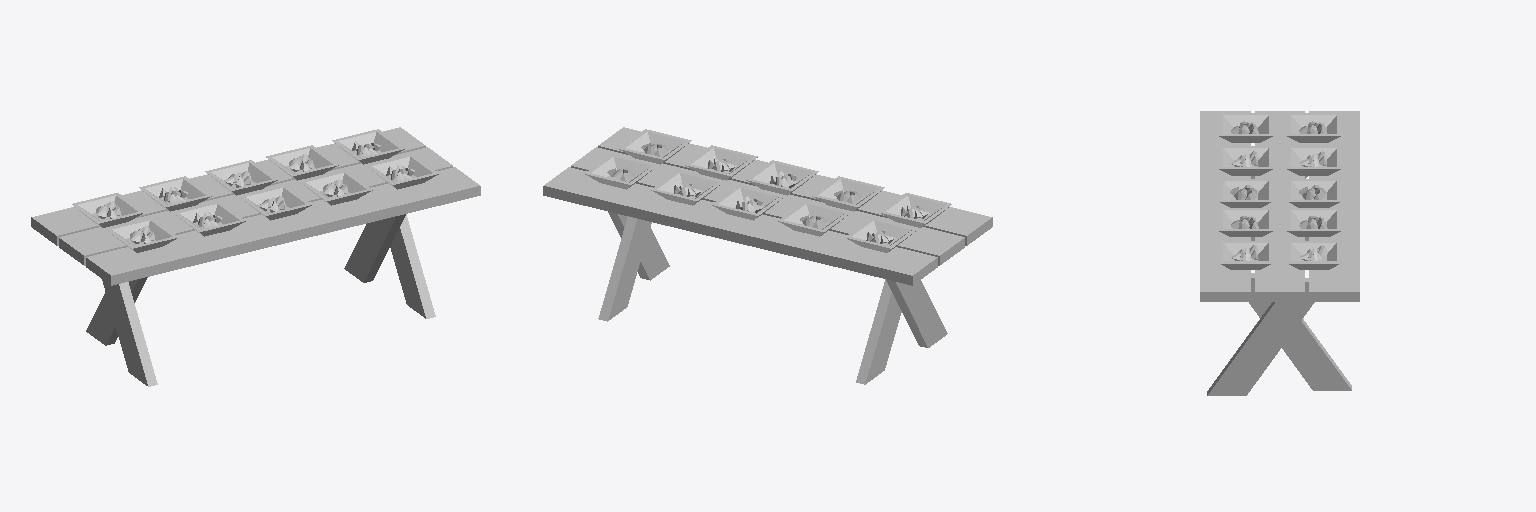
Rendered from ingredientStation.obj.
3 renders of one model, left to right at view 1: azimuth 30°, elevation 25°; view 2: azimuth 150°, elevation 25°; view 3: azimuth 270°, elevation 25°, orthographic.
Parts seen in each view (by area): view 1: table_GRP top_GEO2, table_GRP top_GEO3, table_GRP top_GEO1, table_GRP legL_GEO1, table_GRP legR_GEO2, table_GRP legR_GEO1, ingredients_GRP bowl_GEO1, ingredients_GRP bowl_GEO8, ingredients_GRP bowl_GEO4, ingredients_GRP bowl_GEO7, ingredients_GRP bowl_GEO9, ingredients_GRP bowl_GEO2 (+5 smaller); view 2: table_GRP top_GEO1, table_GRP top_GEO3, table_GRP top_GEO2, table_GRP legR_GEO1, legL_GEO2 table_GRP, table_GRP legL_GEO1, ingredients_GRP bowl_GEO1, ingredients_GRP bowl_GEO7, ingredients_GRP bowl_GEO10, ingredients_GRP bowl_GEO3, ingredients_GRP bowl_GEO6, ingredients_GRP bowl_GEO2 (+5 smaller); view 3: table_GRP top_GEO2, table_GRP top_GEO1, table_GRP top_GEO3, table_GRP legR_GEO2, table_GRP legR_GEO1, ingredients_GRP bowl_GEO5, ingredients_GRP bowl_GEO6, ingredients_GRP bowl_GEO3, ingredients_GRP bowl_GEO7, ingredients_GRP bowl_GEO9, ingredients_GRP bowl_GEO1, ingredients_GRP bowl_GEO2 (+3 smaller).
Part boxes in pixels (left/top/right/bottom): table_GRP top_GEO2: left=86, top=167, right=480, bottom=285; table_GRP top_GEO3: left=59, top=147, right=452, bottom=265; table_GRP top_GEO1: left=31, top=127, right=425, bottom=245; table_GRP legL_GEO1: left=102, top=279, right=157, bottom=386; table_GRP legR_GEO2: left=390, top=214, right=435, bottom=318; table_GRP legR_GEO1: left=344, top=214, right=405, bottom=282; ingredients_GRP bowl_GEO1: left=332, top=129, right=404, bottom=164; ingredients_GRP bowl_GEO8: left=239, top=185, right=312, bottom=220; ingredients_GRP bowl_GEO4: left=205, top=160, right=277, bottom=195; ingredients_GRP bowl_GEO7: left=173, top=201, right=245, bottom=236; ingredients_GRP bowl_GEO9: left=300, top=170, right=372, bottom=205; ingredients_GRP bowl_GEO2: left=266, top=145, right=338, bottom=180; table_GRP top_GEO1: left=543, top=167, right=937, bottom=285; table_GRP top_GEO3: left=571, top=147, right=964, bottom=265; table_GRP top_GEO2: left=598, top=127, right=992, bottom=245; table_GRP legR_GEO1: left=598, top=216, right=651, bottom=321; legL_GEO2 table_GRP: left=856, top=279, right=901, bottom=384; table_GRP legL_GEO1: left=886, top=279, right=947, bottom=347; ingredients_GRP bowl_GEO1: left=585, top=154, right=657, bottom=189; ingredients_GRP bowl_GEO7: left=812, top=176, right=884, bottom=211; ingredients_GRP bowl_GEO10: left=619, top=129, right=691, bottom=164; ingredients_GRP bowl_GEO3: left=778, top=201, right=850, bottom=236; ingredients_GRP bowl_GEO6: left=879, top=193, right=951, bottom=227; ingredients_GRP bowl_GEO2: left=651, top=170, right=723, bottom=205; table_GRP top_GEO2: left=1200, top=111, right=1250, bottom=301; table_GRP top_GEO1: left=1309, top=111, right=1359, bottom=301; table_GRP top_GEO3: left=1255, top=111, right=1304, bottom=301; table_GRP legR_GEO2: left=1207, top=278, right=1314, bottom=395; table_GRP legR_GEO1: left=1249, top=273, right=1351, bottom=390; ingredients_GRP bowl_GEO5: left=1287, top=113, right=1340, bottom=142; ingredients_GRP bowl_GEO6: left=1219, top=113, right=1272, bottom=142; ingredients_GRP bowl_GEO3: left=1287, top=146, right=1340, bottom=175; ingredients_GRP bowl_GEO7: left=1219, top=146, right=1272, bottom=175; ingredients_GRP bowl_GEO9: left=1219, top=208, right=1272, bottom=236; ingredients_GRP bowl_GEO1: left=1287, top=241, right=1340, bottom=269; ingredients_GRP bowl_GEO2: left=1287, top=208, right=1340, bottom=236.
Size of the model in its own units: 5.87 by 2.11 by 2.2.